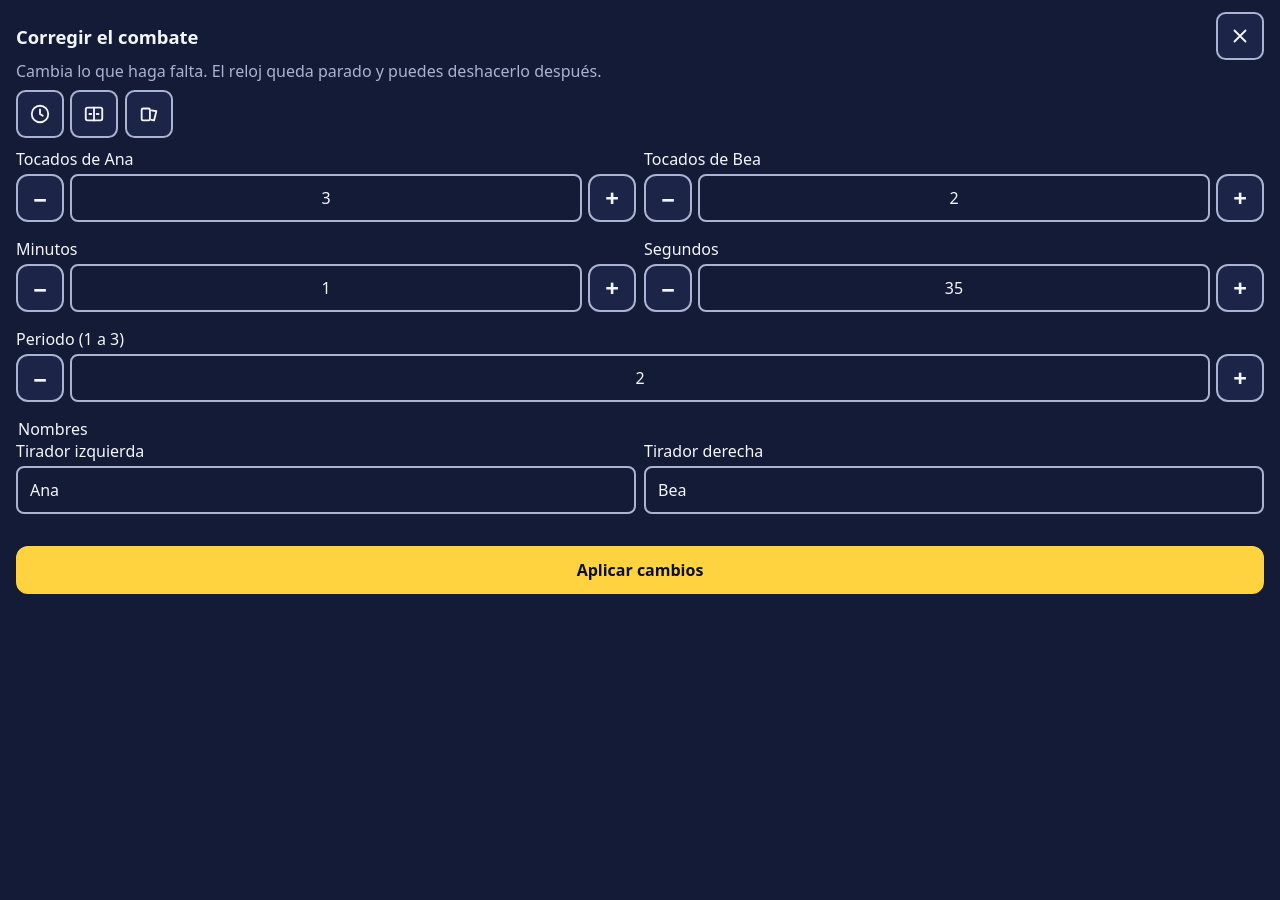
Test case: CorrectionSheet: fencer names › keeps the sheet open and shows an error when the rename is refused
The width and height of the screenshot is (1280, 900).
Replace the text in the field labelled "Tirador izquierda" with "Cris" at (326, 490), box [16,466,636,514]
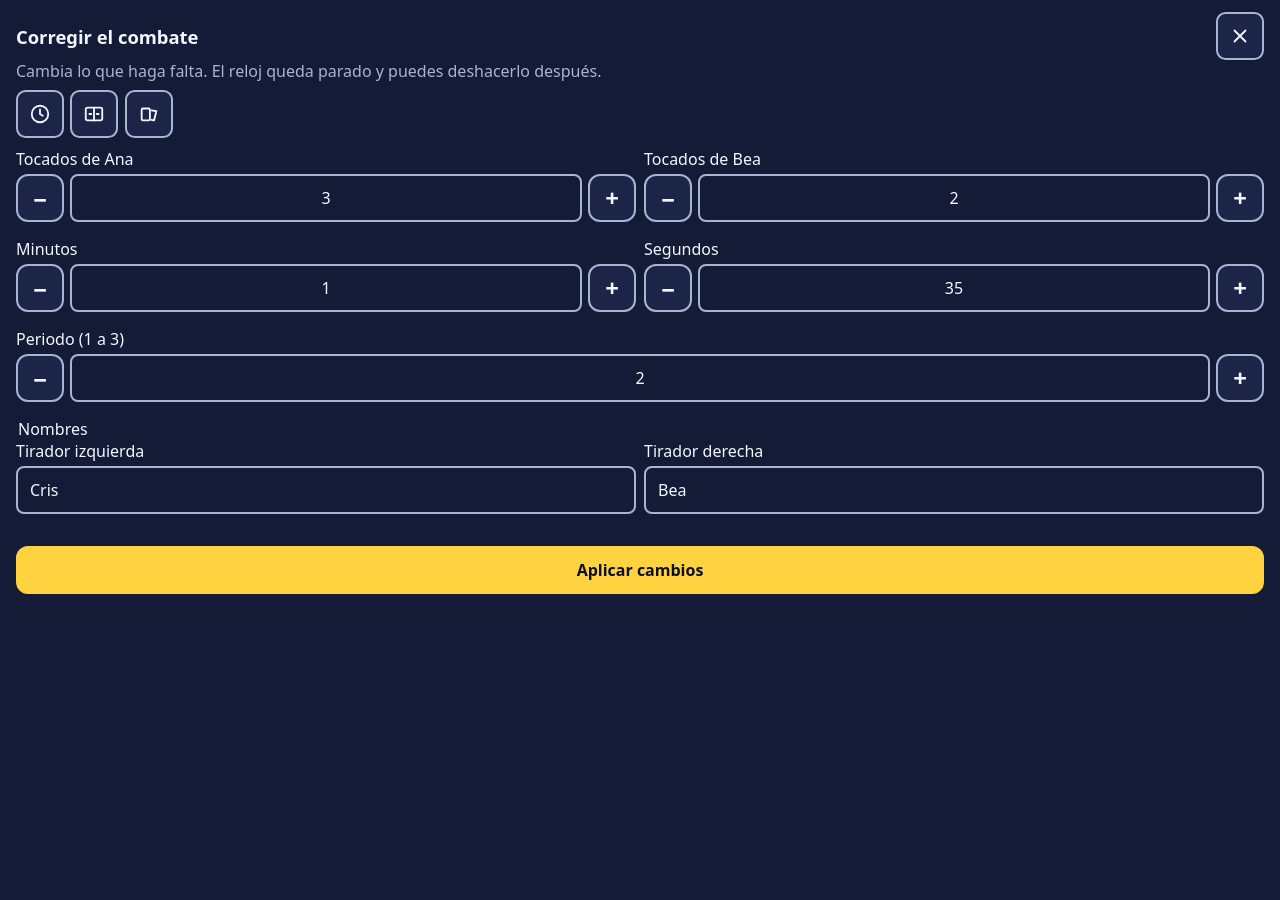
Click the button "Aplicar cambios".
click(640, 570)  # box [16,546,1264,594]
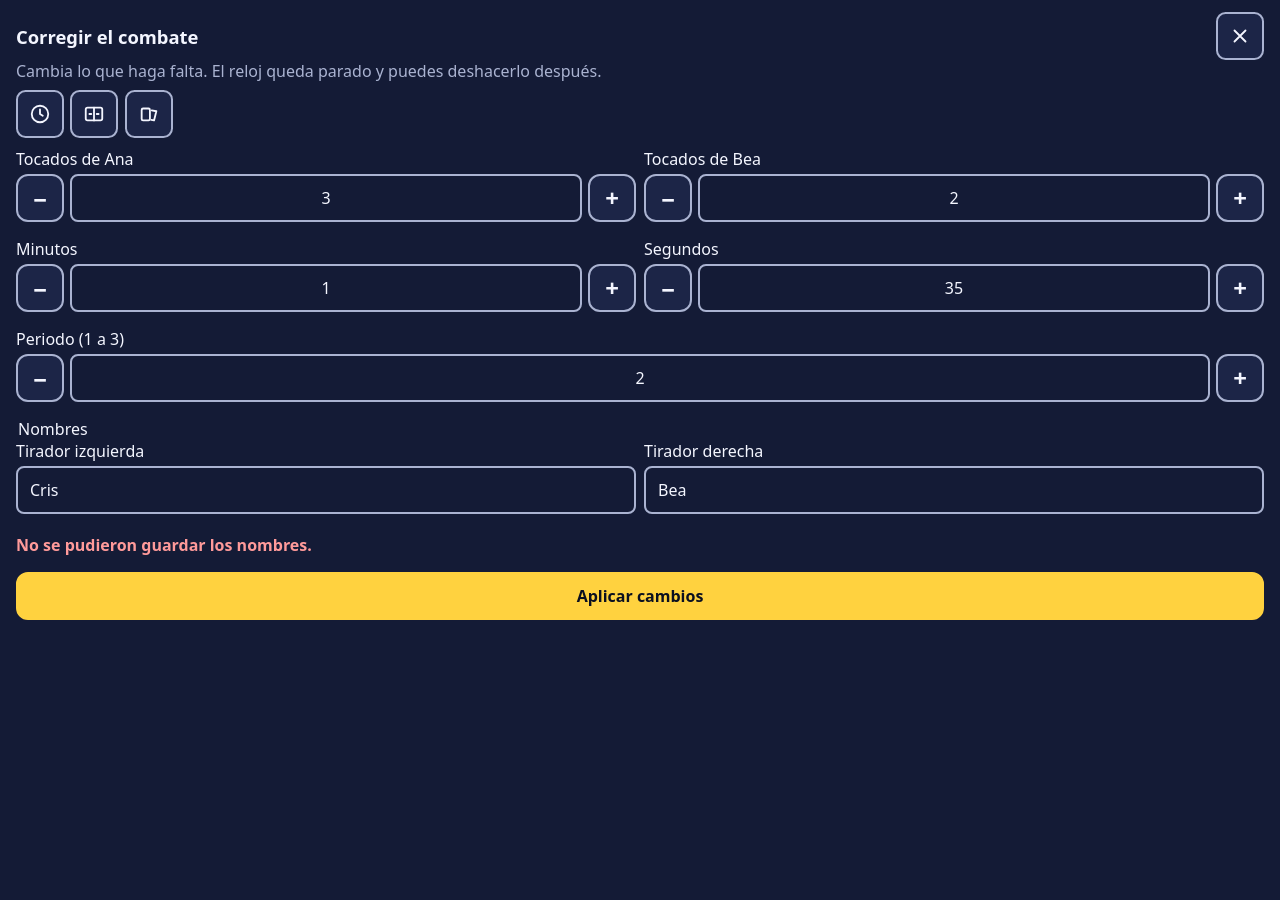
Expected: the message reads "No se pudieron guardar los nombres.", [16,534,312,556]
